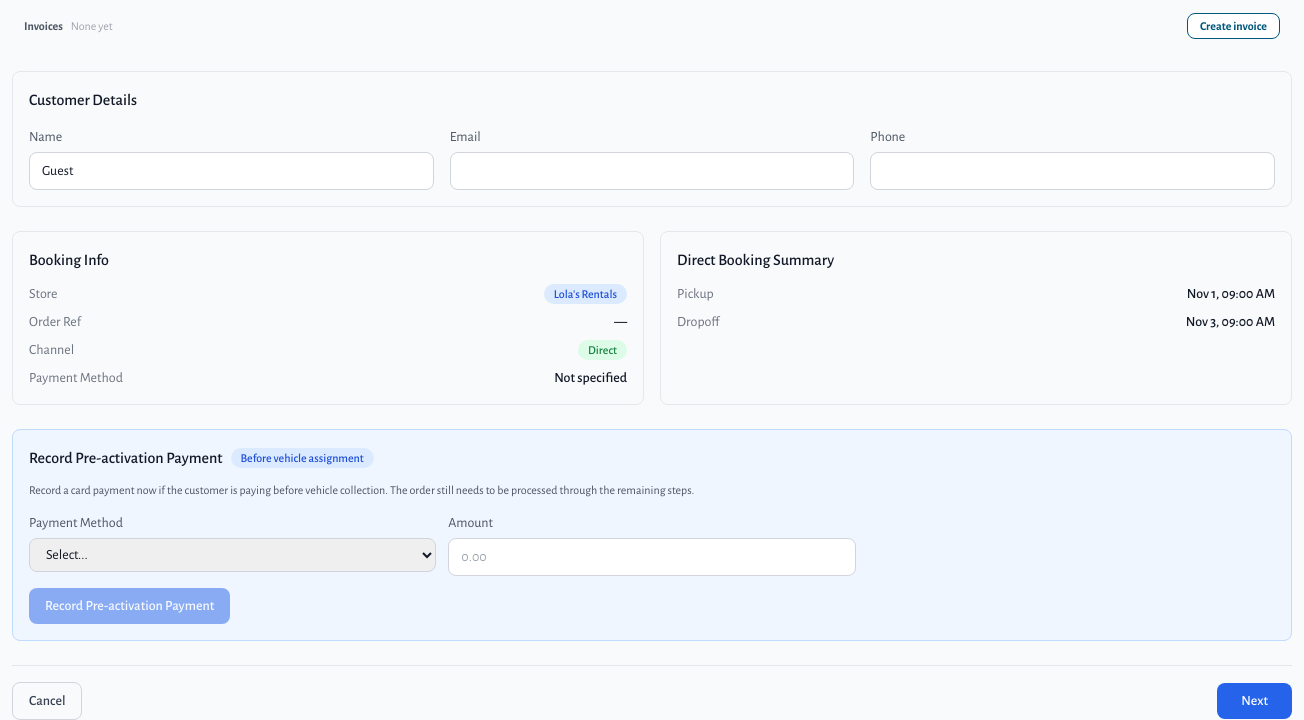
Test: date-aware inbox assignment › clears an assignment that conflicts after the return date changes
(page scrolled)
Step 1. Click the button "Next" → coordinates (1255, 701), box [1217, 683, 1292, 719]
(page scrolled)
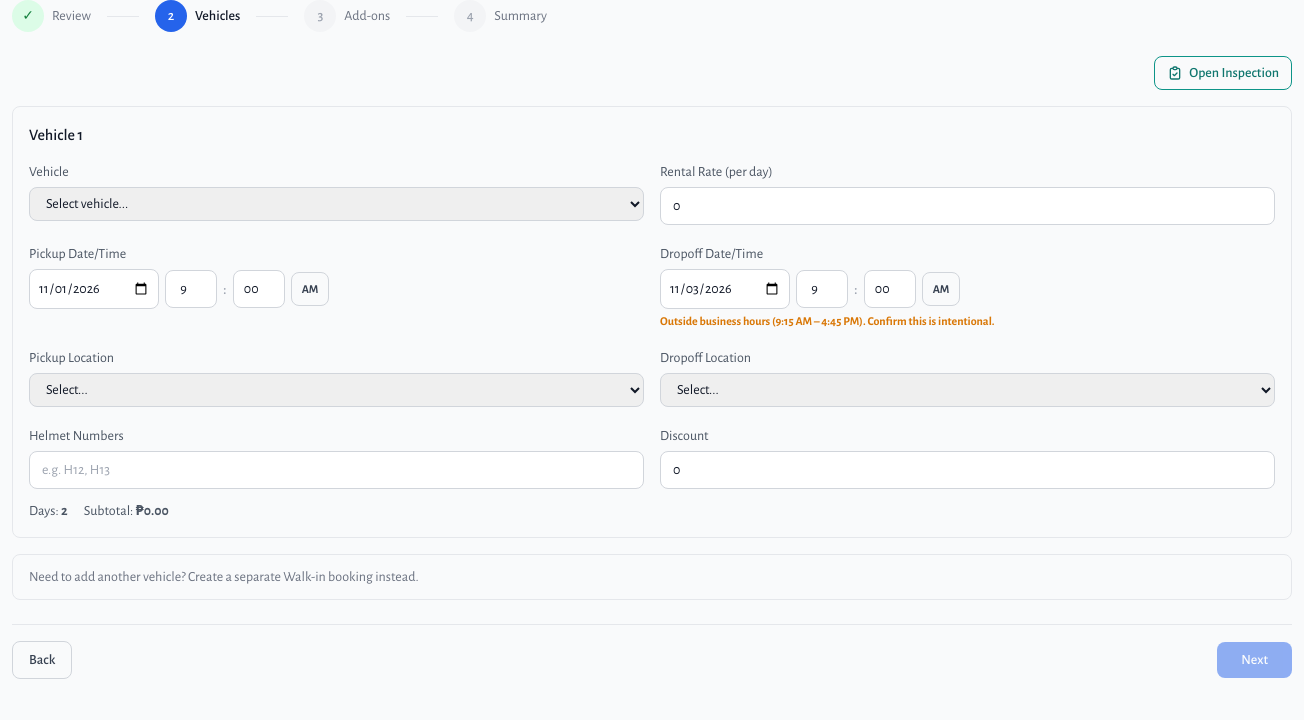
Step 2. Select "Free bike" in the dropdown named "Vehicle 1" → coordinates (336, 204), box [29, 187, 644, 221]
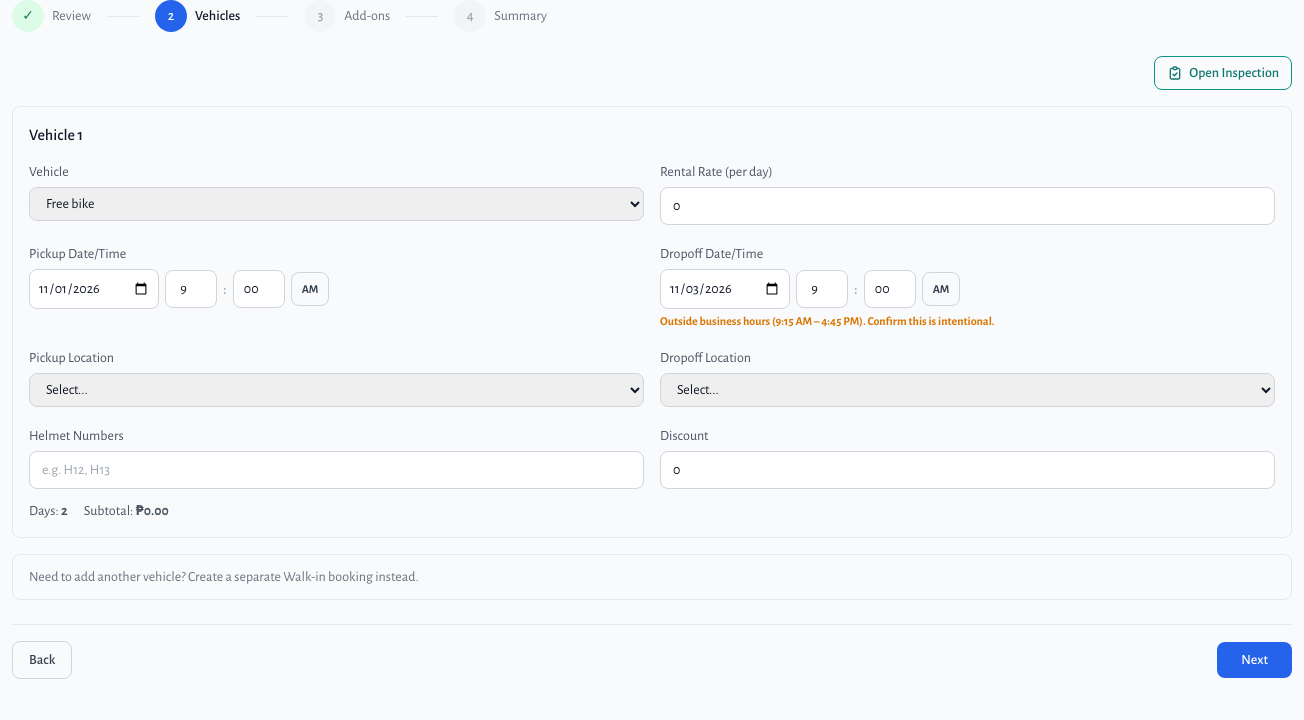
Expected: the button "Next" is enabled, [1217, 642, 1292, 678]
Step 3. Type "2026-11-04" into the date field named "Vehicle 1 return date" → coordinates (725, 289), box [660, 269, 790, 309]
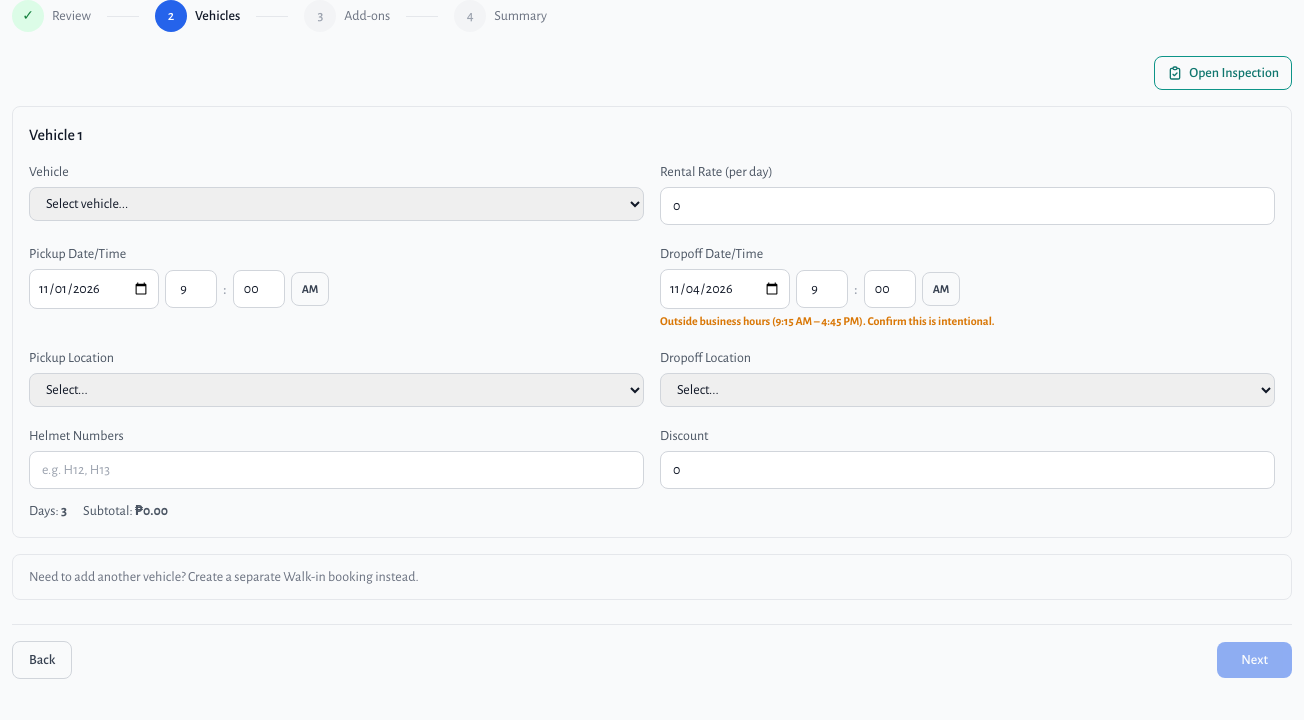
Expected: the button "Next" is disabled, [1217, 642, 1292, 678]
